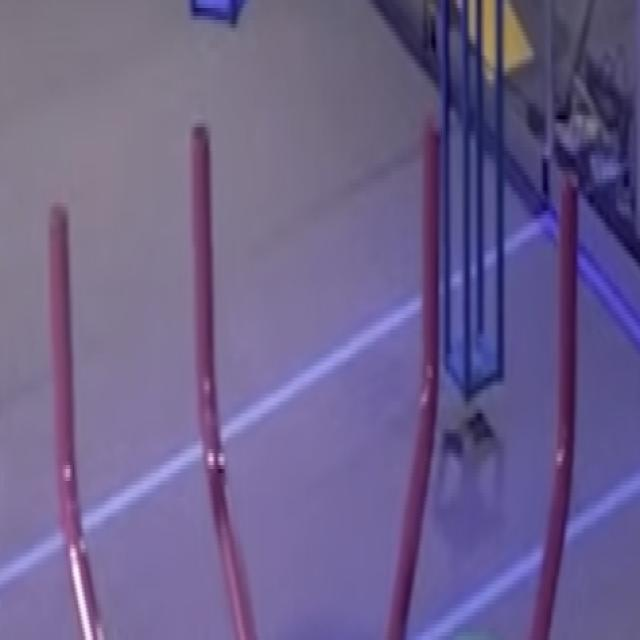Reef: (192, 125, 220, 469), (49, 205, 79, 503), (554, 175, 578, 468), (422, 116, 441, 404)
